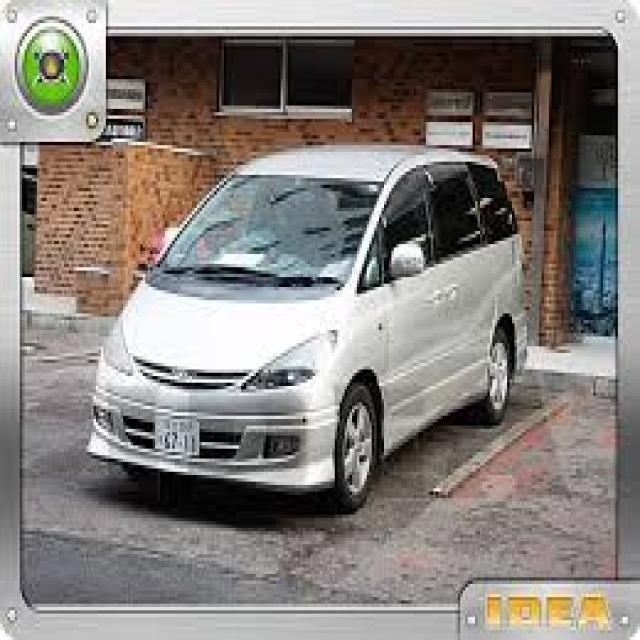Van: (89, 145, 526, 515)
